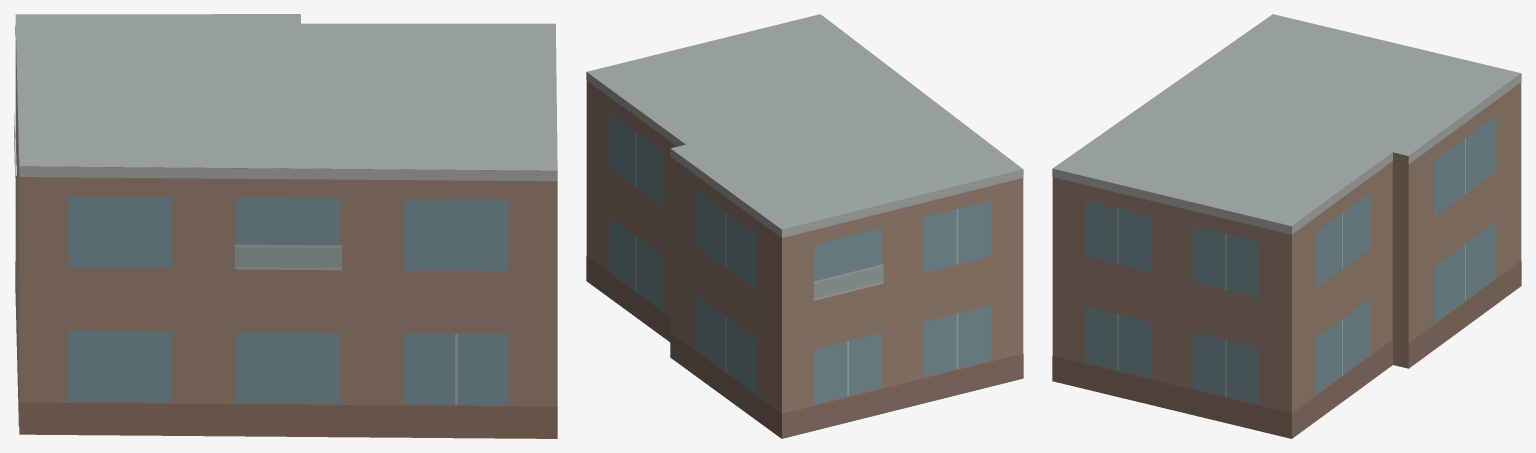
The model's file is survey-upis-32799713.glb.
The picture shows the model from 3 angles, left to right: view 1: azimuth 30°, elevation 25°; view 2: azimuth 150°, elevation 25°; view 3: azimuth 270°, elevation 25°; orthographic projection. The views are drawn at different scales.
Parts seen in each view (by area): view 1: survey-upis-32799713.tmp; view 2: survey-upis-32799713.tmp; view 3: survey-upis-32799713.tmp.
Part boxes in pixels (left/top/right/bottom): survey-upis-32799713.tmp: left=14, top=14, right=557, bottom=438; survey-upis-32799713.tmp: left=586, top=14, right=1023, bottom=438; survey-upis-32799713.tmp: left=1052, top=14, right=1521, bottom=438.
Size of the model in its own units: 13.06 by 6.1 by 12.2.
